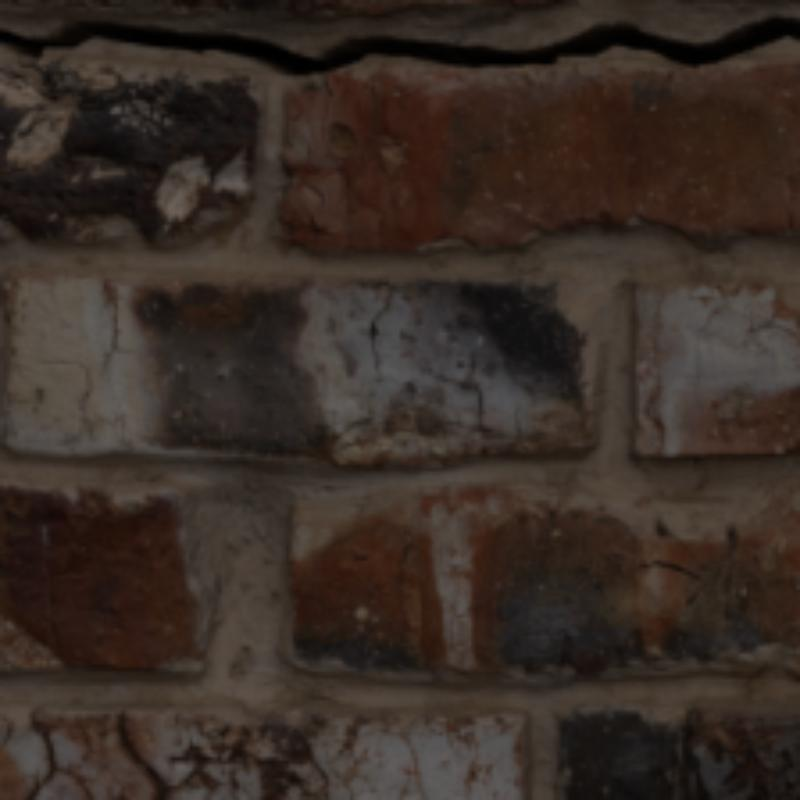crack: (0, 18, 796, 73), (25, 718, 93, 796), (118, 714, 164, 796), (446, 354, 482, 436), (368, 286, 396, 371), (107, 282, 121, 361)
